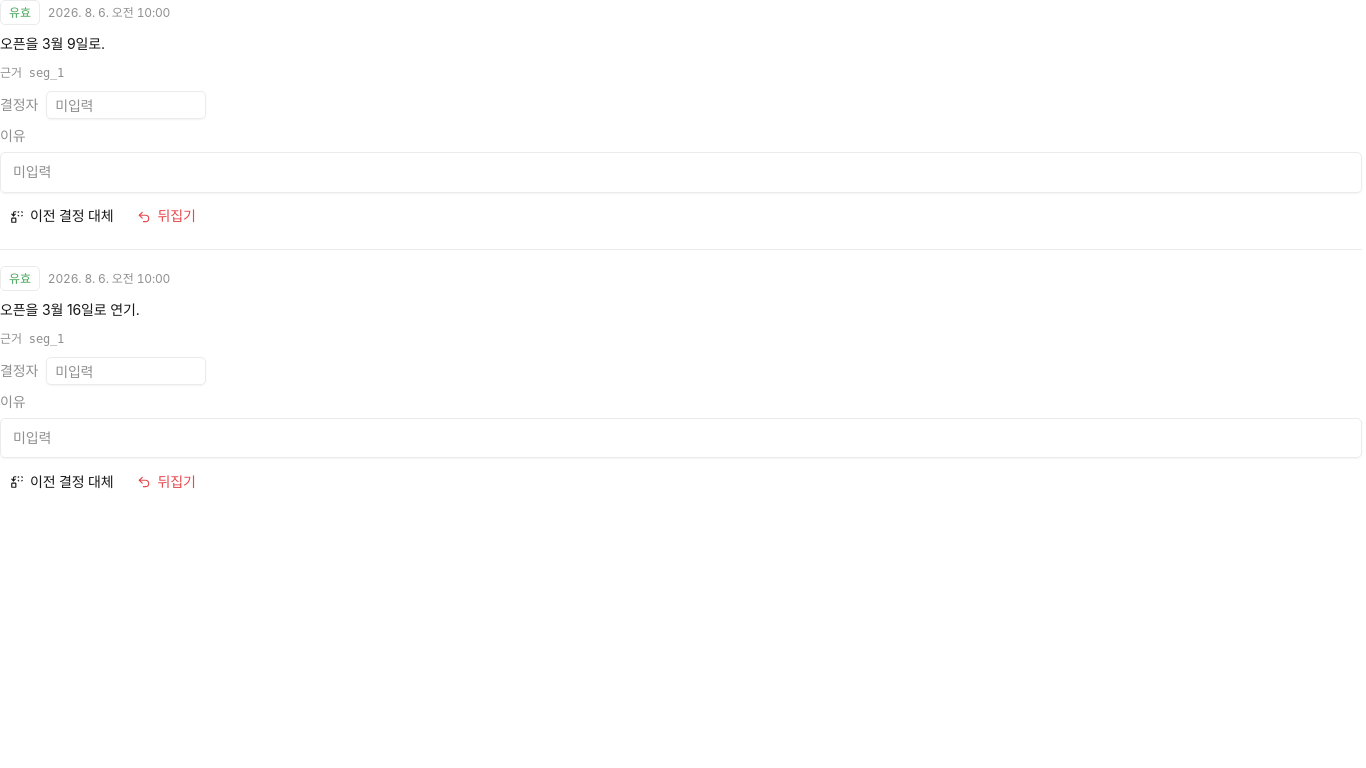
Scenario: 대체 › ⛔ 자기 자신은 후보에 없다 — 계약이 409로 거절한다
Step 1. Click the button with test id "supersede-dec_2" → click(62, 482), box [0,466,124,498]
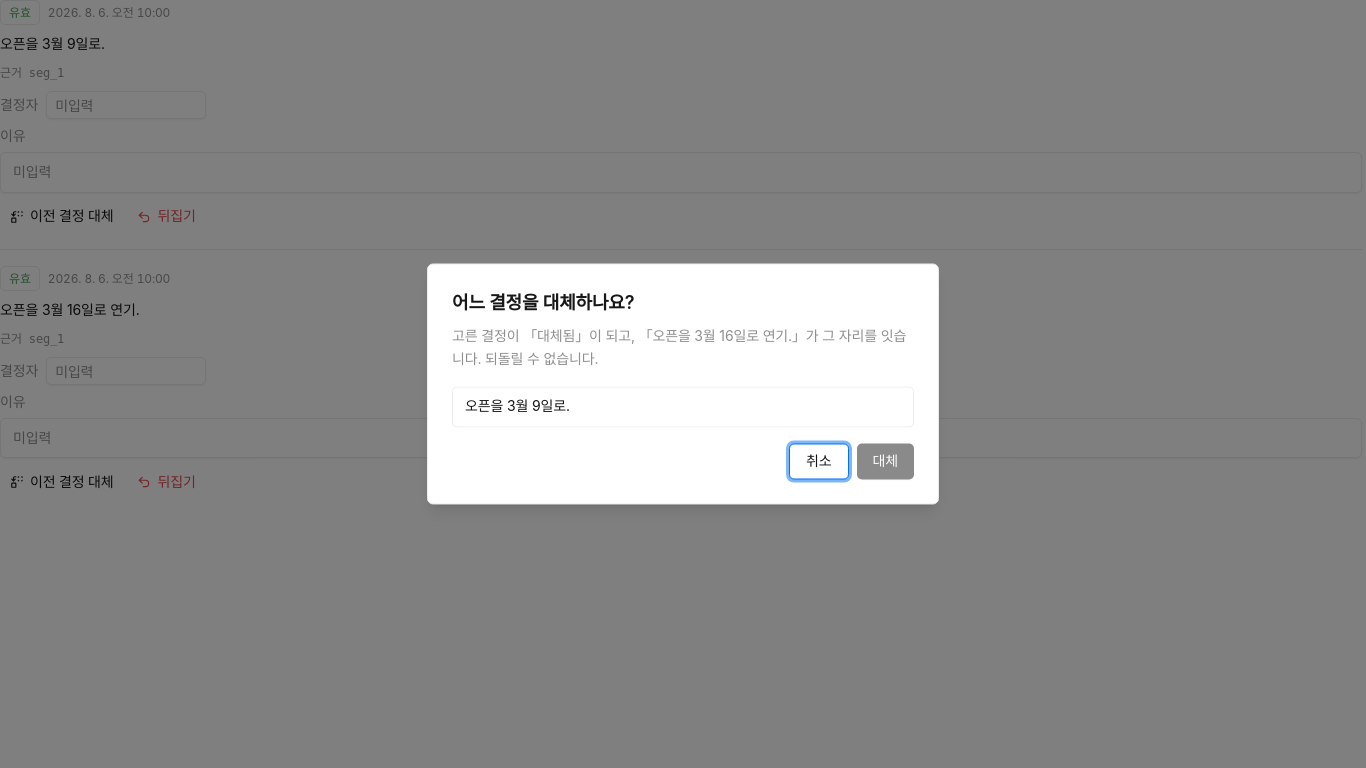
Expected: the button with test id "candidate-dec_1" is shown, [452,387,914,428]
